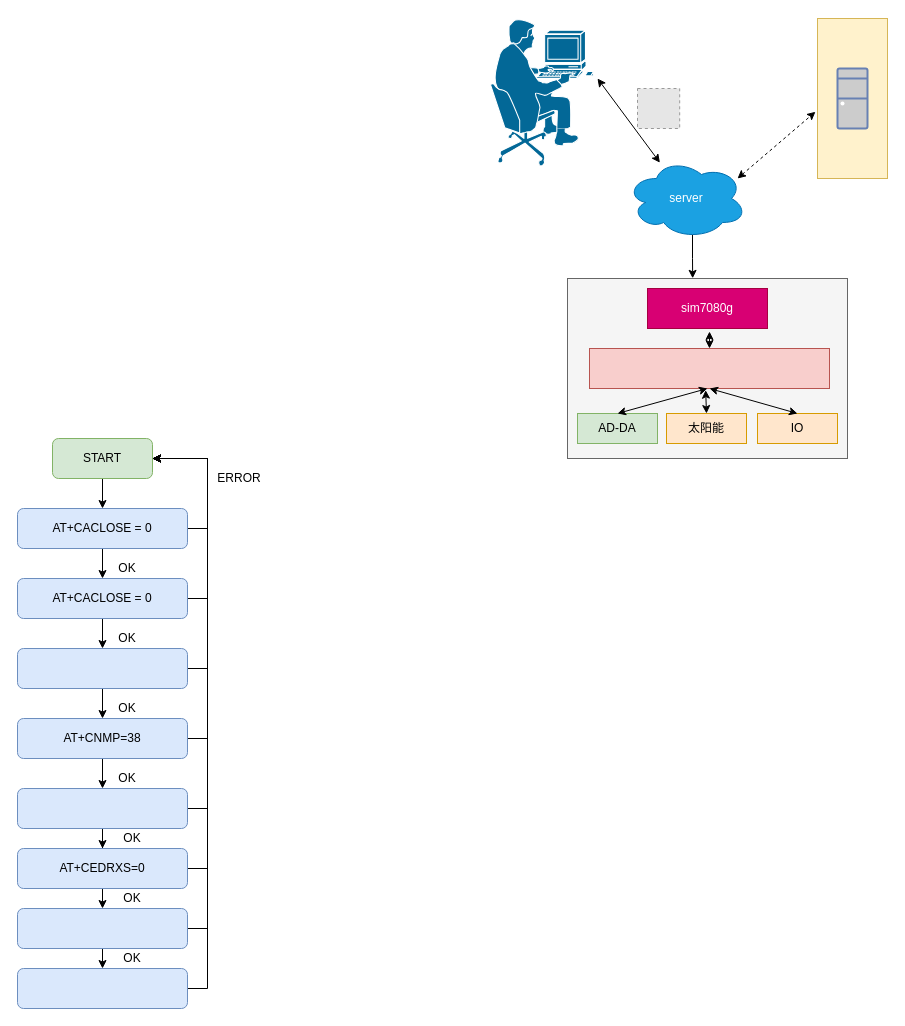
The diagram is 905 pixels wide and 1026 high, and some of its shapes have lost their labels. Grey dashed boxes stand in for pictures. Here are the shapes that lost their labels. From the top down, the centre of each, then its label:
(709,368): protocal
(102,668): AT+CPIN?
(102,808): AT+CPSMS=0
(102,928): AT+CNACT=0,1
(102,988): AT+CACID=0
